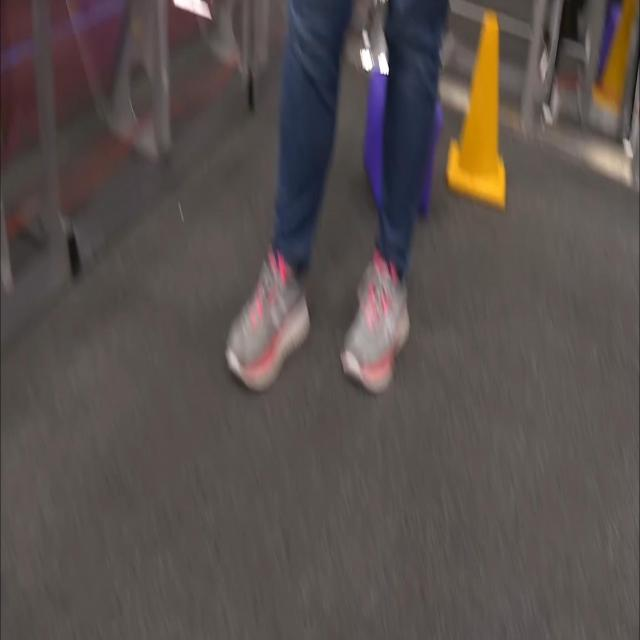frc_cone: (445, 17, 509, 212), (593, 0, 638, 115)
frc_cube: (371, 78, 435, 200), (585, 5, 619, 81)
